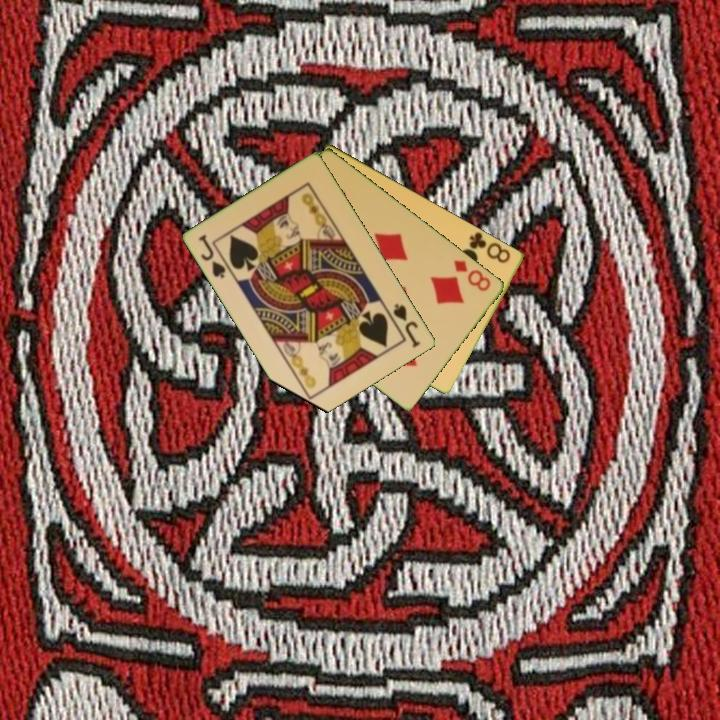8c: (463, 228, 514, 266)
8d: (450, 256, 494, 294)
Js: (195, 231, 229, 282), (390, 300, 423, 351)
